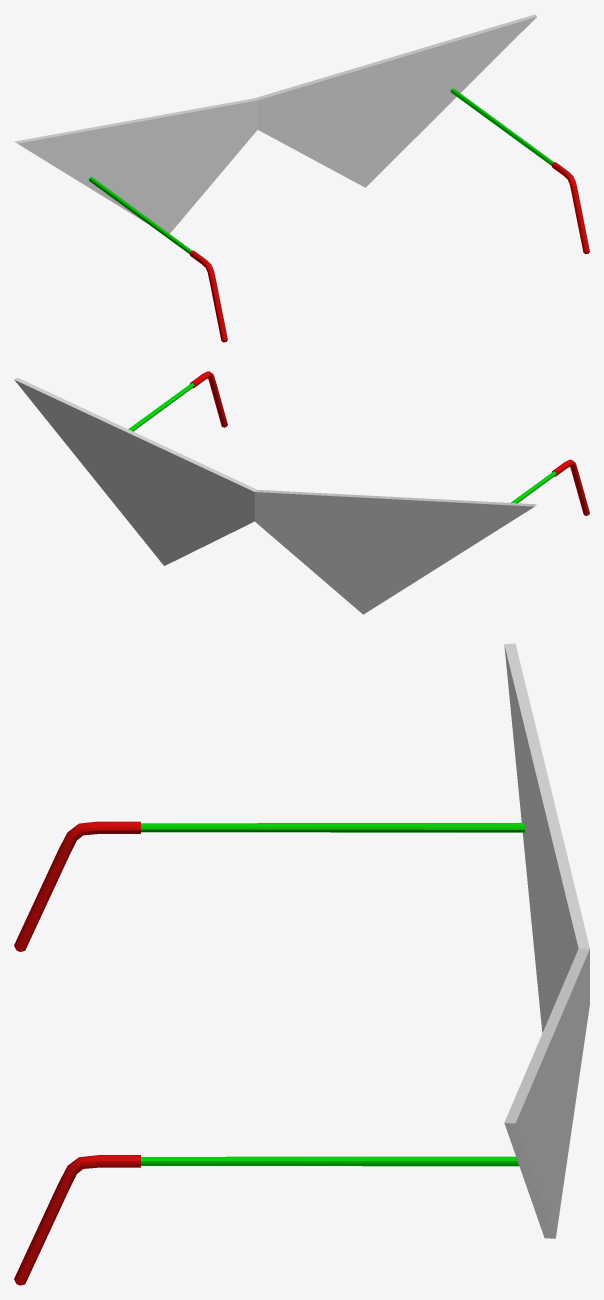
Rendered from glasses.fbx.
The picture shows the model from 3 angles, top to bottom: view 1: azimuth 30°, elevation 25°; view 2: azimuth 150°, elevation 25°; view 3: azimuth 270°, elevation 25°; orthographic projection. The views are drawn at different scales.
Visible parts, largest first — view 1: Plane, Cylinder; view 2: Plane, Cylinder; view 3: Plane, Cylinder.
Part boxes in pixels (x1,y1,x2,y2): Plane: (14, 14, 536, 233); Cylinder: (89, 88, 589, 342); Plane: (14, 377, 536, 614); Cylinder: (128, 371, 589, 515); Plane: (504, 643, 589, 1238); Cylinder: (14, 821, 524, 1285).
Bounding box in the file's own units: 100 × 25.71 × 50.91.
